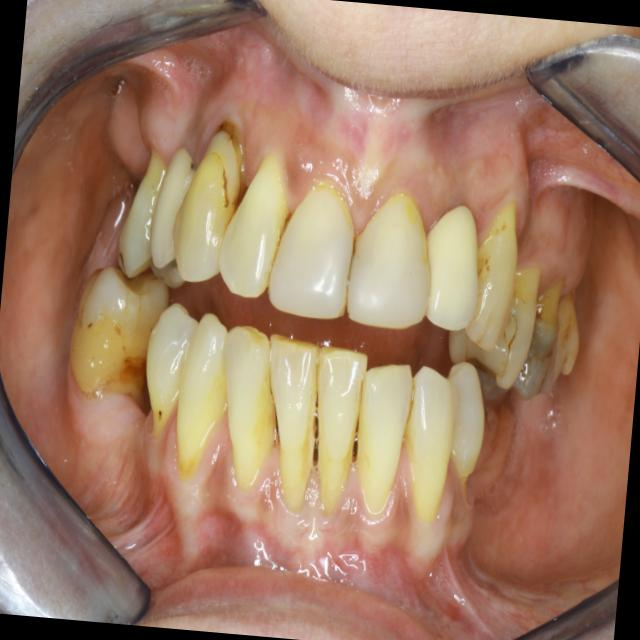tooth: (259, 163, 384, 352), (201, 316, 303, 513), (246, 322, 340, 533), (209, 130, 310, 319), (60, 258, 174, 419), (334, 176, 442, 345), (157, 103, 250, 297), (340, 352, 422, 543), (166, 299, 244, 496), (295, 337, 369, 536), (393, 353, 467, 538), (457, 196, 529, 368), (414, 192, 491, 352), (429, 353, 494, 511), (131, 294, 196, 448), (494, 249, 547, 404), (110, 135, 165, 284), (147, 130, 194, 286), (522, 257, 567, 409), (545, 272, 588, 405), (472, 365, 510, 406)
